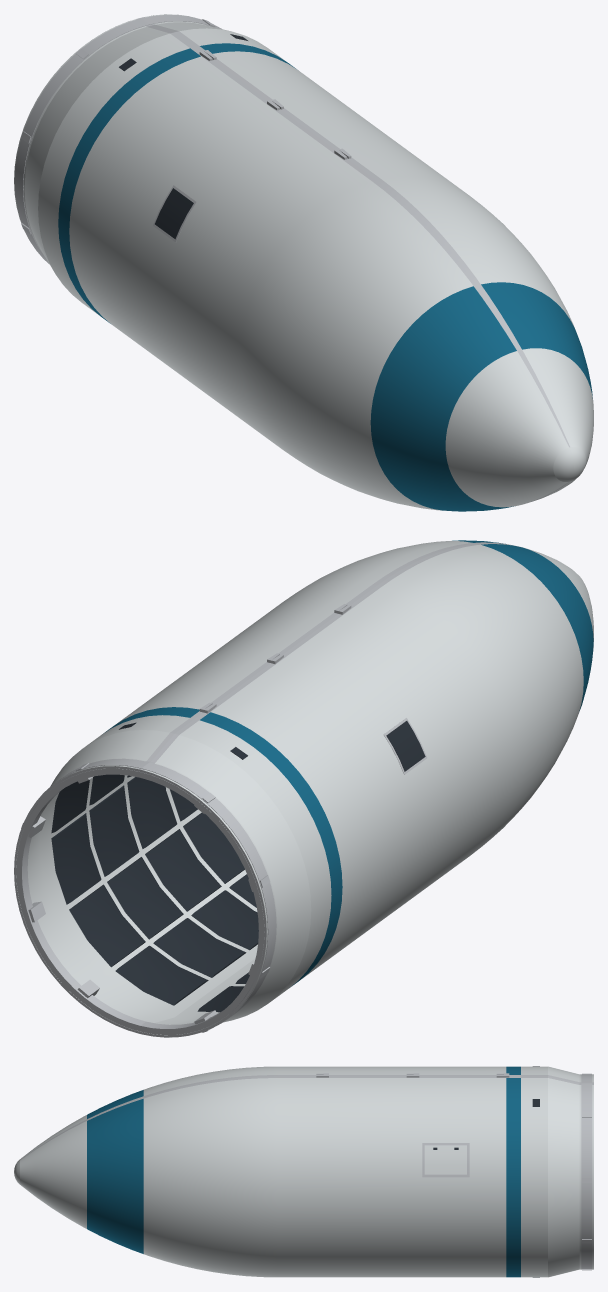
Rendered from fairing_standard.fbx.
3 views of the same model, one above another, from view 1: azimuth 30°, elevation 25°; view 2: azimuth 150°, elevation 25°; view 3: azimuth 270°, elevation 25° (orthographic). The views are drawn at different scales.
Parts seen in each view (by area): view 1: fairing_standard_half_b_LOD0, fairing_standard_half_a_LOD0; view 2: fairing_standard_half_b_LOD0, fairing_standard_half_a_LOD0; view 3: fairing_standard_half_a_LOD0, fairing_standard_half_b_LOD0.
Boxes of the visible parts, x1,y1,x2,y2 form: fairing_standard_half_b_LOD0: (14, 18, 573, 511); fairing_standard_half_a_LOD0: (141, 14, 593, 500); fairing_standard_half_b_LOD0: (140, 543, 593, 1037); fairing_standard_half_a_LOD0: (14, 540, 508, 1033); fairing_standard_half_a_LOD0: (14, 1074, 593, 1277); fairing_standard_half_b_LOD0: (14, 1066, 593, 1167).
Size of what is drawn, in the model's own units: 4 by 4.08 by 11.
